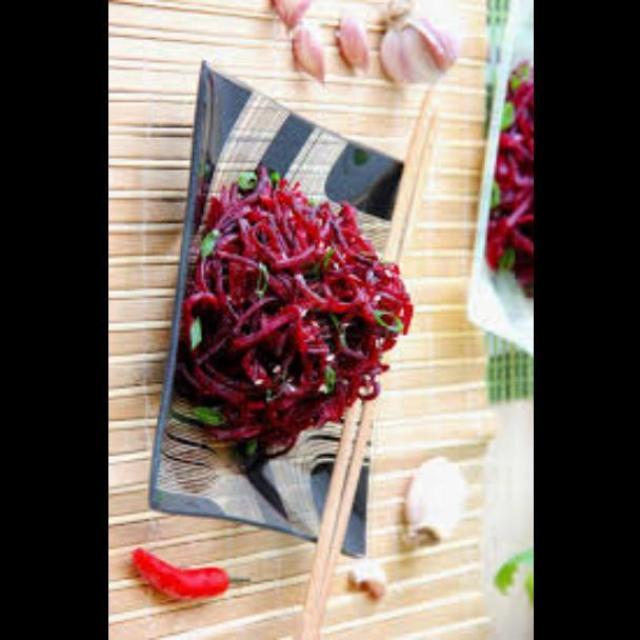beet: (190, 172, 412, 440), (476, 68, 534, 314)
garlic: (395, 441, 483, 557), (376, 3, 456, 92), (281, 24, 344, 90), (329, 4, 374, 84), (265, 0, 320, 36)
hot pepper: (110, 542, 242, 606)
